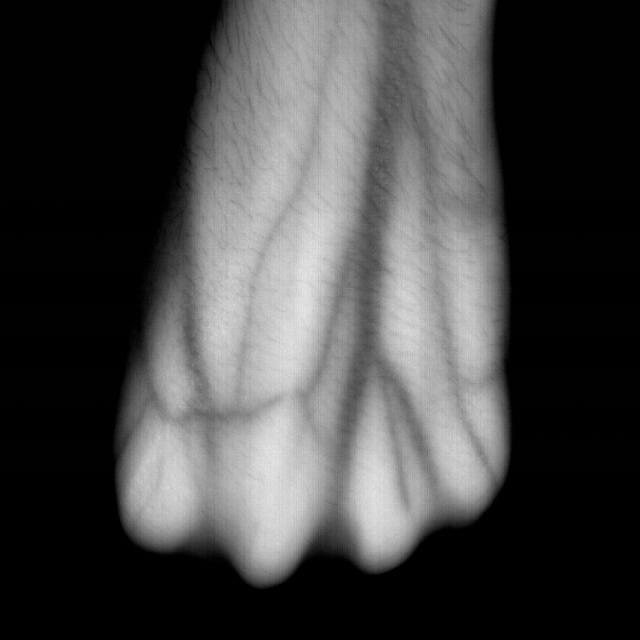Vein: (341, 16, 430, 464)
